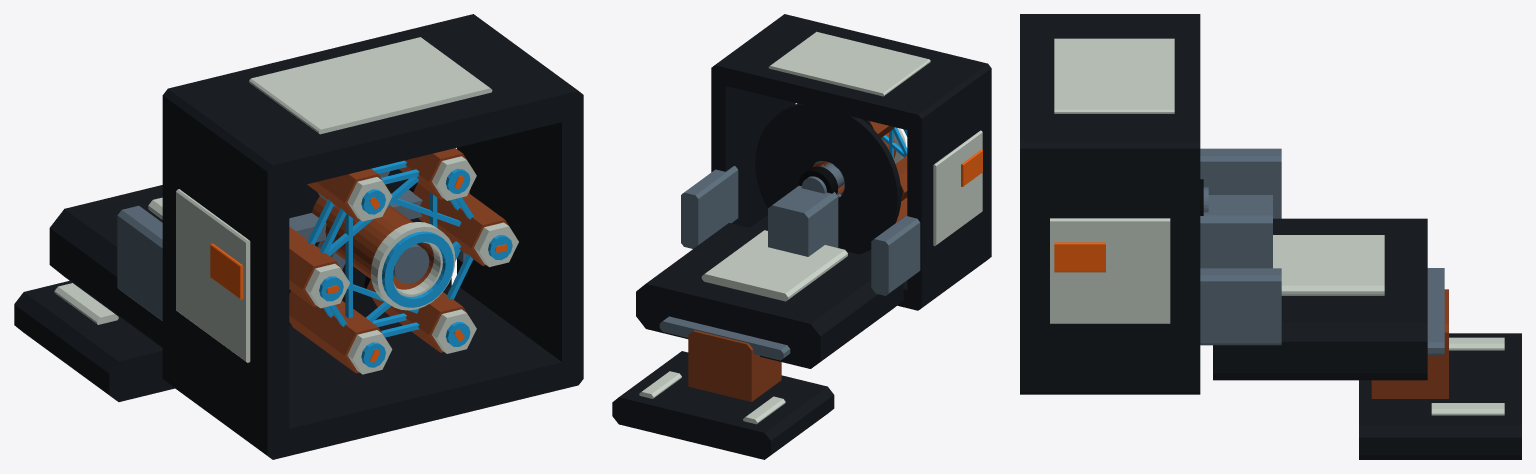
Rendered from M01-013_disruption_net_launcher.obj.
3 renders of one model, left to right at view 1: azimuth 30°, elevation 25°; view 2: azimuth 150°, elevation 25°; view 3: azimuth 270°, elevation 25°, orthographic. The views are drawn at different scales.
Visible parts, largest first — view 1: Outer_Guard_L, Upper_Guard, Outer_Guard_R, Lower_Guard, Upper_Guard_Trim, Mount_Top_Socket, Guard_Ceramic_L, Main_Chassis, Support_Bracket_L, Hex_Guide_Roller_05, Cassette_Hub, Hex_Guide_Roller_01 (+19 smaller); view 2: Main_Chassis, Cassette_Rear_Annulus, Outer_Guard_L, Mount_Top_Socket, Upper_Guard, Outer_Guard_R, Upper_Guard_Trim, Dorsal_Armor, Mount_Riser, Bearing_Spine, Guard_Ceramic_L, Support_Bracket_R (+7 smaller); view 3: Outer_Guard_R, Main_Chassis, Mount_Top_Socket, Upper_Guard, Guard_Ceramic_R, Upper_Guard_Trim, Dorsal_Armor, Support_Bracket_R, Bearing_Spine, Support_Bracket_L, Mount_Riser, Guard_Signal_R (+4 smaller).
Boxes of the visible parts, x1,y1,x2,y2 form: Outer_Guard_L: (162, 86, 289, 459); Upper_Guard: (177, 16, 573, 189); Outer_Guard_R: (457, 14, 583, 387); Lower_Guard: (276, 287, 571, 456); Upper_Guard_Trim: (249, 37, 492, 134); Mount_Top_Socket: (14, 280, 174, 401); Guard_Ceramic_L: (176, 189, 250, 362); Main_Chassis: (49, 185, 451, 348); Support_Bracket_L: (117, 205, 162, 320); Hex_Guide_Roller_05: (289, 291, 389, 373); Cassette_Hub: (312, 196, 433, 289); Hex_Guide_Roller_01: (413, 183, 515, 265); Main_Chassis: (636, 223, 903, 368); Cassette_Rear_Annulus: (755, 103, 901, 254); Outer_Guard_L: (907, 62, 991, 310); Mount_Top_Socket: (612, 351, 834, 459); Upper_Guard: (717, 16, 980, 129); Outer_Guard_R: (711, 14, 795, 227); Upper_Guard_Trim: (768, 31, 930, 96); Dorsal_Armor: (701, 230, 847, 301); Mount_Riser: (688, 330, 781, 401); Bearing_Spine: (768, 185, 838, 256); Guard_Ceramic_L: (933, 130, 982, 245); Support_Bracket_R: (681, 166, 738, 248); Outer_Guard_R: (1020, 137, 1200, 394); Main_Chassis: (1213, 218, 1427, 380); Mount_Top_Socket: (1359, 333, 1521, 459); Upper_Guard: (1020, 17, 1200, 138); Guard_Ceramic_R: (1050, 218, 1170, 323); Upper_Guard_Trim: (1054, 38, 1174, 113); Dorsal_Armor: (1273, 235, 1384, 295); Support_Bracket_R: (1200, 268, 1281, 345); Bearing_Spine: (1200, 195, 1272, 268); Support_Bracket_L: (1200, 148, 1281, 218); Mount_Riser: (1371, 289, 1448, 398); Guard_Signal_R: (1054, 242, 1105, 272).
Bounding box in the file's own units: 0.764 × 0.875 × 1.17.
